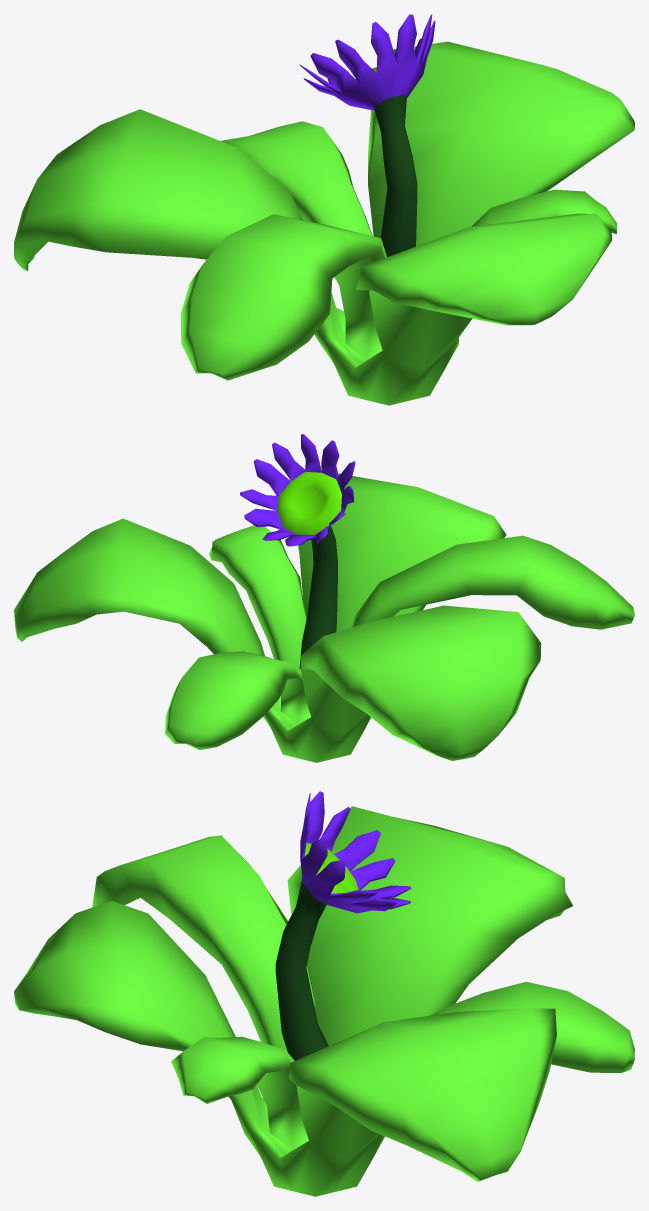
The model's file is 3D_ENVPOP_001.FBX.
The picture shows the model from 3 angles, top to bottom: view 1: azimuth 30°, elevation 25°; view 2: azimuth 150°, elevation 25°; view 3: azimuth 270°, elevation 25°; orthographic projection. The views are drawn at different scales.
Parts seen in each view (by area): view 1: ENV_POP_001; view 2: ENV_POP_001; view 3: ENV_POP_001.
Boxes of the visible parts, x1,y1,x2,y2 form: ENV_POP_001: (14, 14, 634, 405); ENV_POP_001: (14, 434, 634, 762); ENV_POP_001: (14, 791, 634, 1196).
Bounding box in the file's own units: 684 × 408 × 613.
